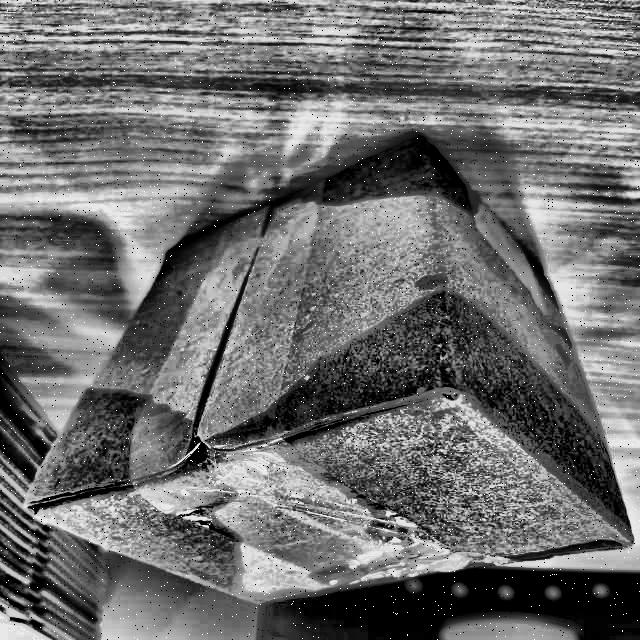box: (19, 127, 638, 612)
wet: (249, 292, 632, 562), (28, 390, 287, 602), (320, 135, 474, 214)
